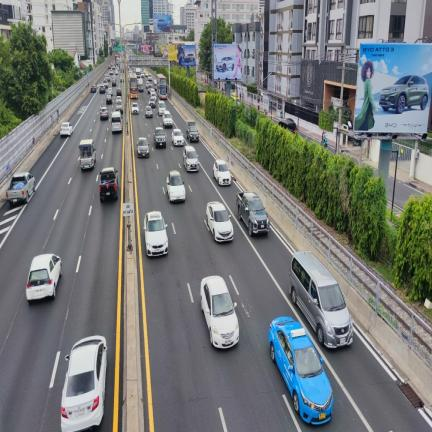bus: (156, 74, 167, 99), (129, 73, 138, 98)
car: (61, 335, 107, 431), (200, 275, 239, 348), (26, 254, 61, 303), (144, 211, 168, 256), (206, 202, 233, 241), (167, 170, 185, 202), (213, 160, 231, 184), (183, 145, 198, 171), (137, 137, 149, 157), (186, 124, 199, 142), (172, 128, 183, 145), (60, 122, 73, 136), (162, 110, 172, 127), (100, 107, 109, 119), (158, 101, 165, 115), (131, 102, 139, 113), (145, 106, 153, 117), (231, 92, 239, 101), (146, 81, 151, 94), (149, 97, 155, 107), (99, 85, 106, 93), (106, 95, 112, 103), (103, 79, 108, 88), (111, 77, 116, 86), (116, 88, 122, 95), (150, 89, 156, 96), (105, 74, 110, 82), (116, 95, 122, 101), (107, 88, 113, 94), (91, 85, 96, 92), (147, 74, 152, 80), (153, 83, 157, 90), (140, 72, 145, 77)
pickup: (236, 192, 269, 235), (6, 172, 35, 206), (99, 167, 118, 201), (154, 127, 166, 146), (116, 99, 123, 113)
taxi: (269, 317, 333, 424)
truck: (78, 139, 96, 170), (137, 79, 143, 92)
van: (289, 252, 353, 347), (111, 112, 122, 133)
